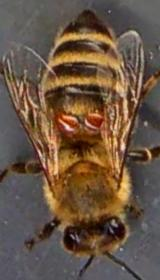varroa_mite: (82, 110, 110, 136), (56, 107, 80, 132)
